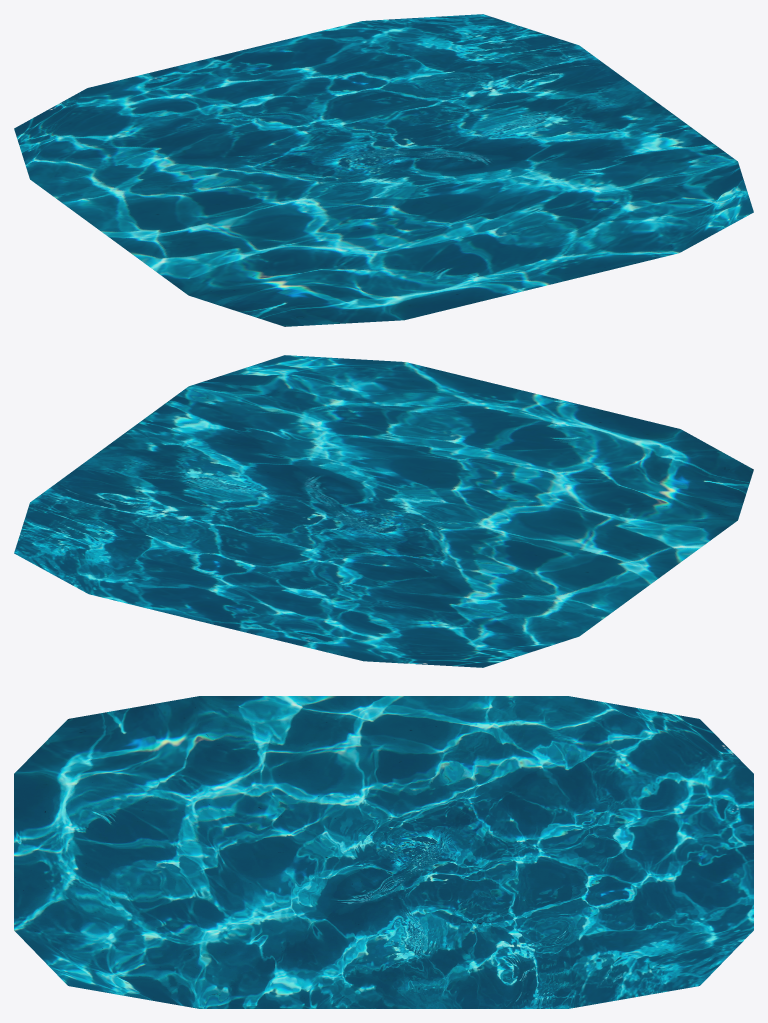
The model's file is pond.gltf.
3 renders of one model, top to bottom at view 1: azimuth 30°, elevation 25°; view 2: azimuth 150°, elevation 25°; view 3: azimuth 270°, elevation 25°, orthographic. The views are drawn at different scales.
Parts seen in each view (by area): view 1: pond2; view 2: pond2; view 3: pond2.
Part boxes in pixels (x1,y1,x2,y2): pond2: (14, 14, 753, 326); pond2: (14, 355, 753, 667); pond2: (14, 696, 753, 1008).
Size of the model in its own units: 4.8 by 9.54e-07 by 4.8.
1 material, 1 textured.
